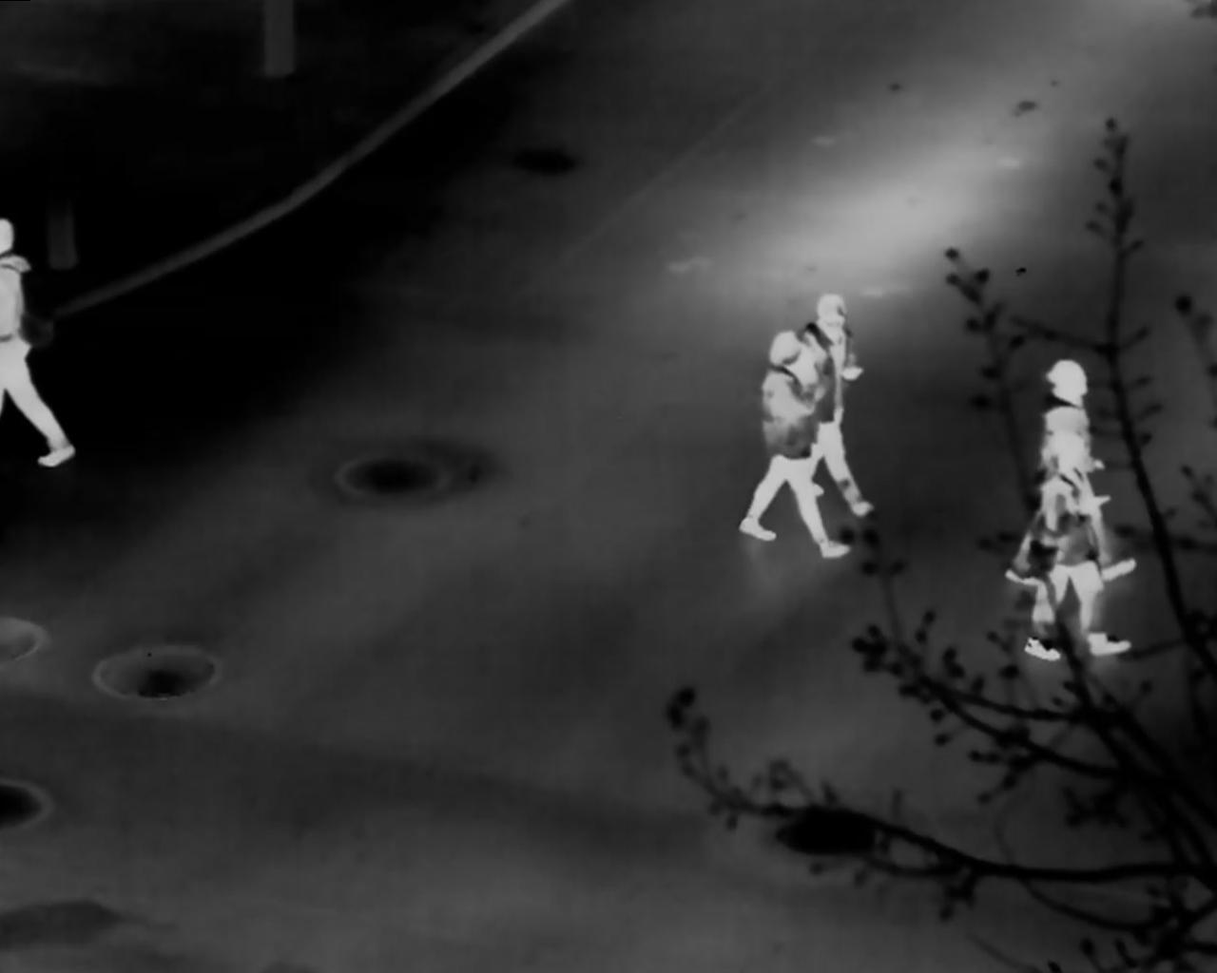person: (735, 329, 851, 562), (1023, 429, 1130, 661), (2, 219, 75, 468), (799, 293, 874, 518), (1036, 360, 1096, 427)
